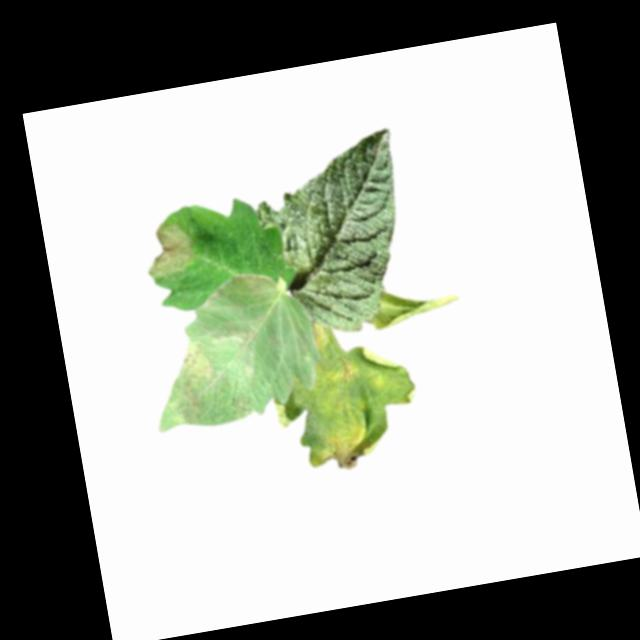Late_blight: (163, 337, 222, 428), (365, 279, 465, 332), (192, 268, 279, 315), (319, 418, 380, 473), (141, 220, 196, 279), (330, 355, 358, 386), (230, 390, 254, 421), (310, 318, 330, 352)
healthy: (245, 126, 422, 346)
